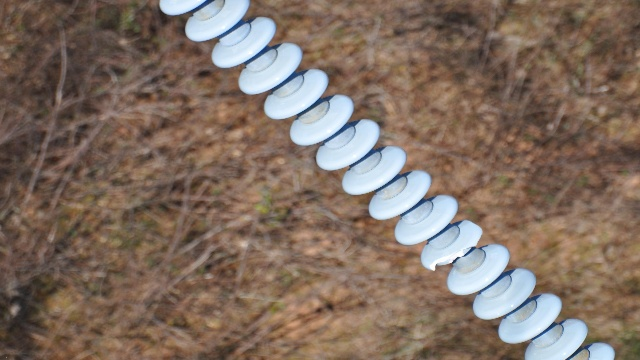broken_local: (428, 218, 485, 274)
insulator_unspecified: (158, 0, 616, 359)
